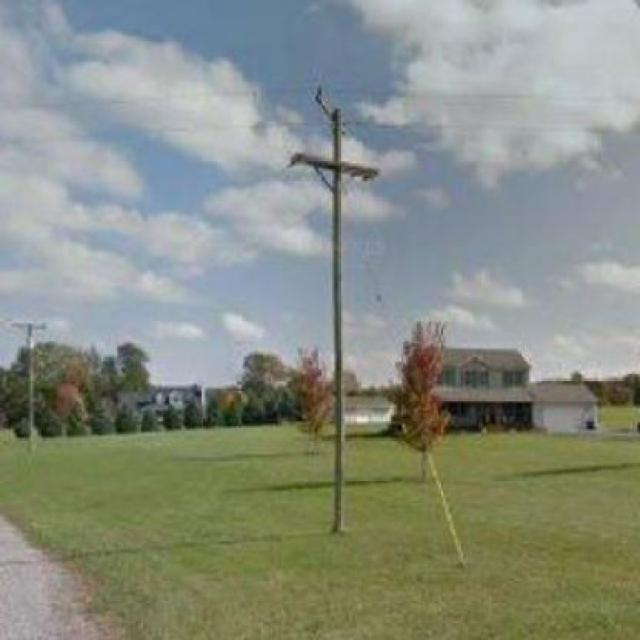pole: (288, 80, 382, 534)
